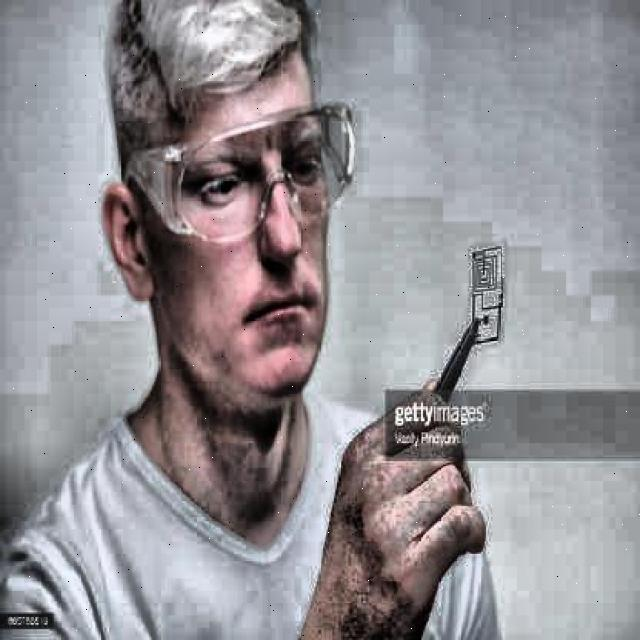goggles_on: (114, 99, 378, 244)
